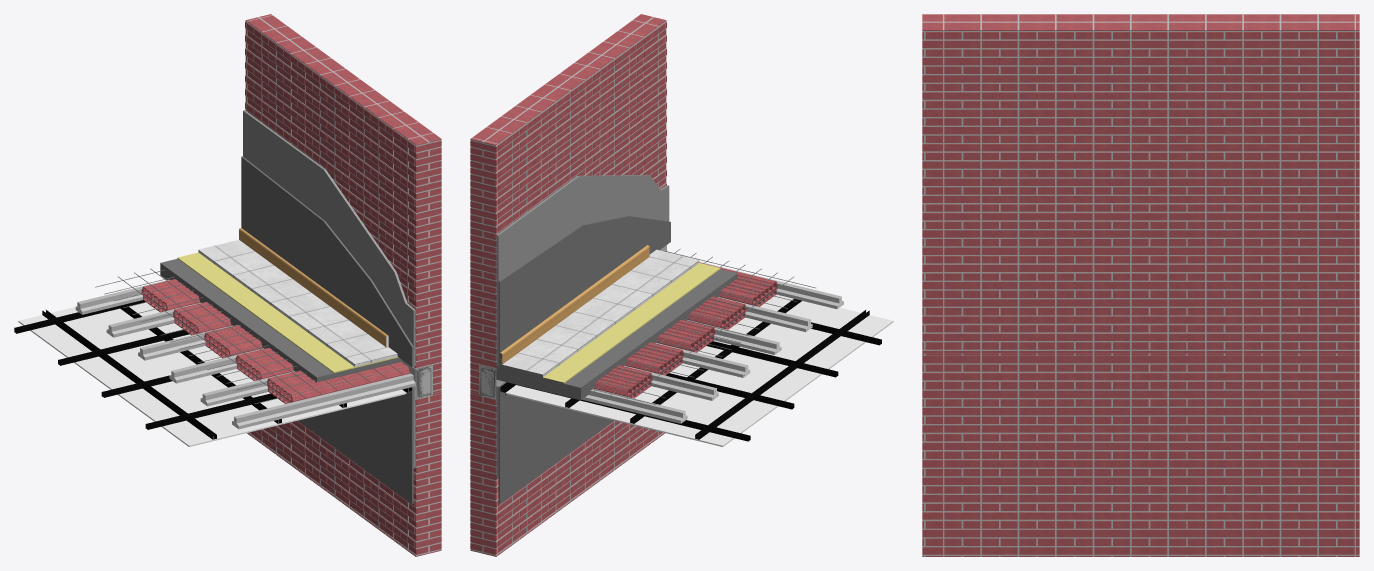
The model's file is detalle_de_entrepiso_liviano_en_archicad.glb.
3 views of the same model, side by side, from view 1: azimuth 30°, elevation 25°; view 2: azimuth 150°, elevation 25°; view 3: azimuth 270°, elevation 25° (orthographic). The views are drawn at different scales.
Parts seen in each view (by area): view 1: Material8 (×6), Material4, Material15 (×6), Material11, Material3, Material12, Material22, Material14, Material16; view 2: Material8 (×6), Material4, Material15 (×6), Material11, Material3, Material12, Material22, Material14, Material16; view 3: Material8 (×6), Material15 (×6).
Boxes of the visible parts, x1,y1,x2,y2 form: Material8 (×6): (141, 14, 441, 556); Material4: (76, 156, 431, 503); Material15 (×6): (76, 15, 441, 555); Material11: (18, 302, 406, 446); Material3: (243, 110, 415, 468); Material12: (198, 240, 397, 366); Material22: (14, 300, 411, 439); Material14: (177, 252, 398, 372); Material16: (239, 228, 387, 346); Material8 (×6): (470, 14, 777, 556); Material4: (480, 216, 842, 503); Material15 (×6): (470, 17, 843, 555); Material11: (505, 294, 893, 446); Material3: (496, 174, 669, 478); Material12: (502, 249, 699, 376); Material22: (500, 299, 881, 441); Material14: (543, 263, 720, 383); Material16: (500, 245, 649, 364); Material8 (×6): (922, 14, 1359, 556); Material15 (×6): (922, 14, 1359, 556).
Size of what is drawn, in the model's own units: 2.47 by 3.63 by 2.73.
Materials: 15 (4 with a texture image).
